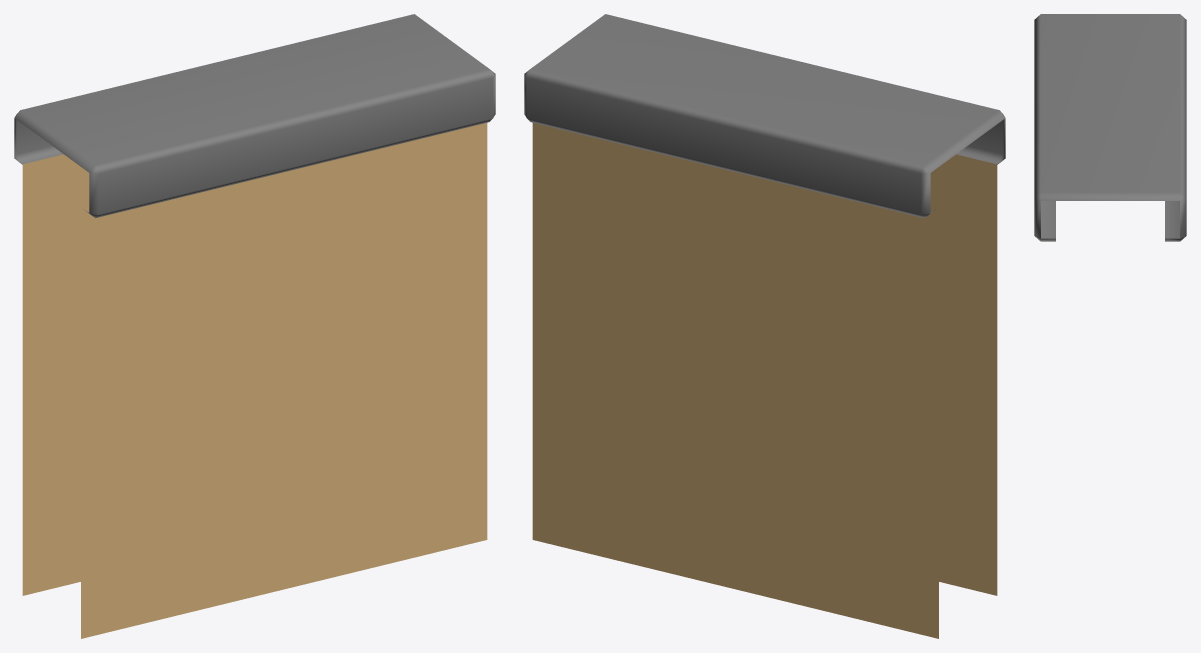
File: SM_WallB_4x4_LOD1.fbx
3 views of the same model, side by side, from view 1: azimuth 30°, elevation 25°; view 2: azimuth 150°, elevation 25°; view 3: azimuth 270°, elevation 25° (orthographic). The views are drawn at different scales.
Visible parts, largest first — view 1: SM_WallB_4x4_LOD1; view 2: SM_WallB_4x4_LOD1; view 3: SM_WallB_4x4_LOD1.
Boxes of the visible parts, bbox=[...] form: SM_WallB_4x4_LOD1: bbox=[14, 14, 495, 638]; SM_WallB_4x4_LOD1: bbox=[524, 14, 1005, 638]; SM_WallB_4x4_LOD1: bbox=[1034, 14, 1186, 241].
Bounding box in the file's own units: 4 × 4.5 × 1.4.
